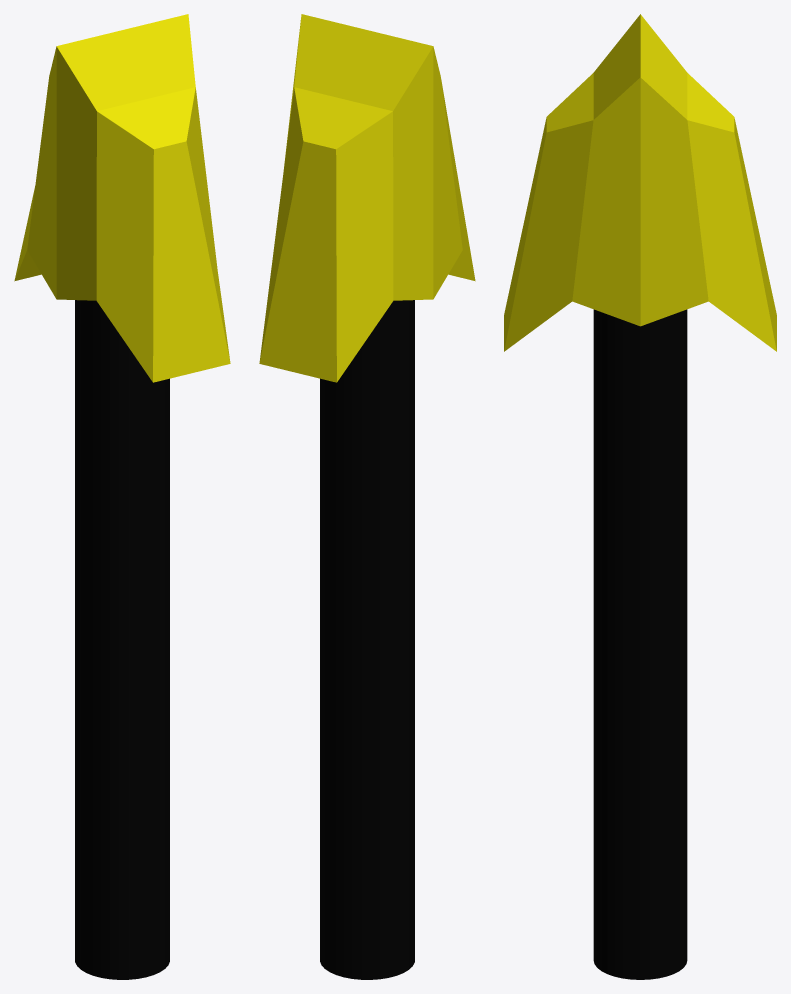
File: Harpoon.fbx
3 views of the same model, side by side, from view 1: azimuth 30°, elevation 25°; view 2: azimuth 150°, elevation 25°; view 3: azimuth 270°, elevation 25° (orthographic).
Parts seen in each view (by area): view 1: Tail, Head; view 2: Tail, Head; view 3: Tail, Head.
Boxes of the visible parts, box(x1,y1,x2,y2) form: Tail: box(75, 300, 169, 979); Head: box(14, 14, 230, 382); Tail: box(320, 300, 414, 979); Head: box(259, 14, 475, 382); Tail: box(593, 309, 687, 979); Head: box(504, 14, 776, 351).
Bounding box in the file's own units: 39.9 × 269 × 72.63.
